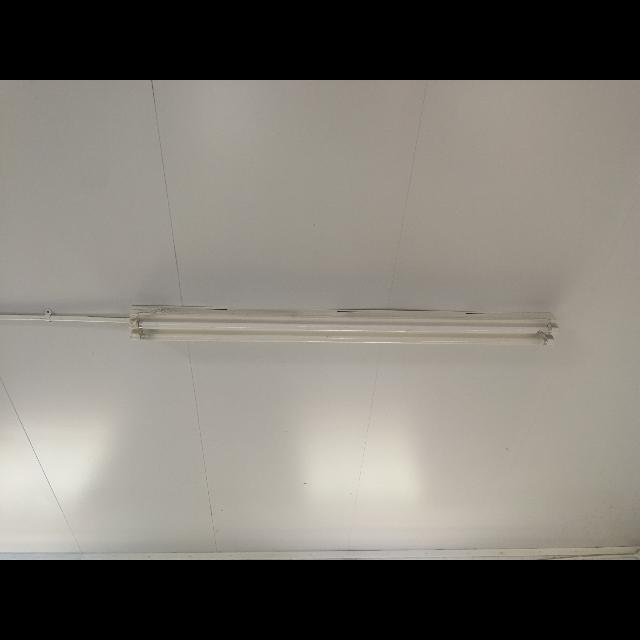Straight-Tube-Fluorescent-Lamp: (126, 306, 566, 356)
